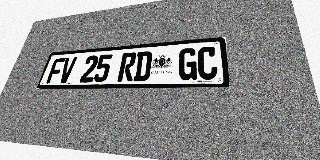2: (79, 55, 99, 83)
5: (93, 54, 113, 82)
C: (198, 46, 218, 80)
D: (133, 51, 153, 81)
F: (46, 58, 66, 83)
G: (178, 48, 197, 80)
R: (117, 52, 137, 82)
V: (57, 57, 77, 83)
